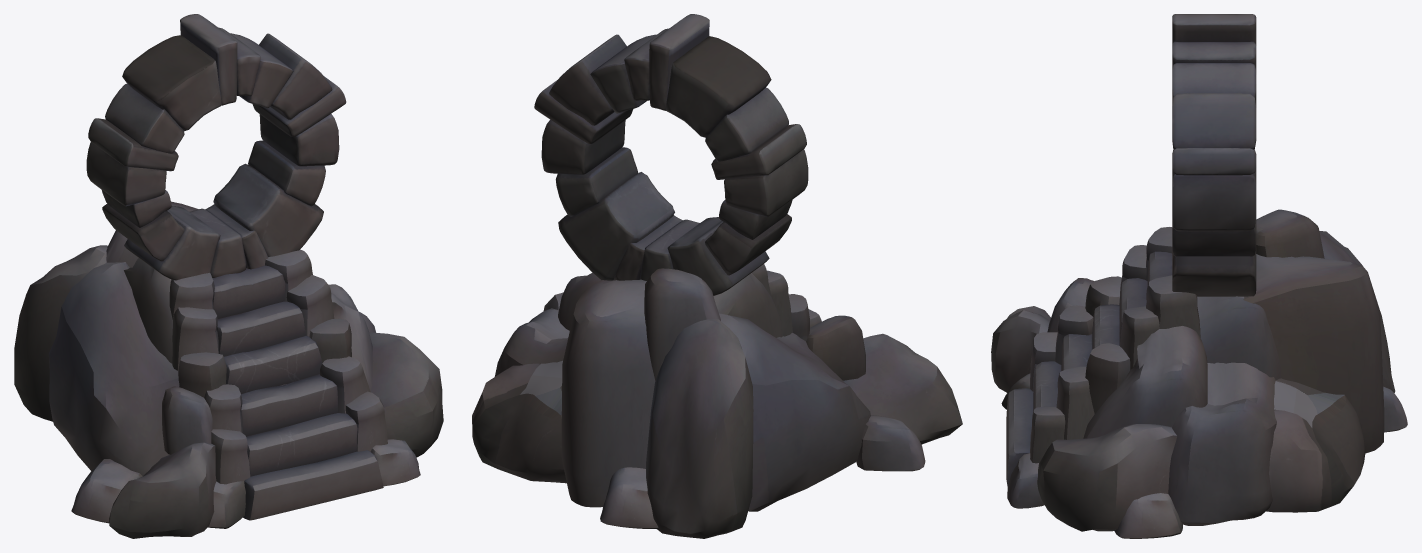
Rendered from Portal.glb.
3 renders of one model, left to right at view 1: azimuth 30°, elevation 25°; view 2: azimuth 150°, elevation 25°; view 3: azimuth 270°, elevation 25°, orthographic. The views are drawn at different scales.
Parts seen in each view (by area): view 1: Portal.001, Rocks2, Stairs.001, BorderRocks, Rocks1.001, Cube.005, Cube.013; view 2: Portal.001, Rocks2, Cube.005, Cube.012, Rocks1.001, Cube.011, Cube.013, Cube.014, BorderRocks; view 3: Rocks1.001, Portal.001, Cube.012, Rocks2, BorderRocks, Cube.011, Stairs.001, Cube.013, Cube.005, Cube.014.
Boxes of the visible parts, x1,y1,x2,y2 form: Portal.001: [86, 14, 346, 280]; Rocks2: [48, 262, 443, 538]; Stairs.001: [212, 265, 383, 520]; BorderRocks: [169, 249, 387, 484]; Rocks1.001: [71, 258, 420, 528]; Cube.005: [14, 245, 107, 421]; Cube.013: [106, 230, 138, 267]; Portal.001: [534, 14, 808, 295]; Rocks2: [543, 292, 962, 511]; Cube.005: [646, 319, 753, 538]; Cube.012: [561, 279, 655, 507]; Rocks1.001: [494, 273, 925, 471]; Cube.011: [472, 360, 566, 483]; Cube.013: [644, 268, 720, 380]; Cube.014: [600, 467, 658, 528]; BorderRocks: [752, 264, 821, 341]; Rocks1.001: [1001, 278, 1281, 538]; Portal.001: [1172, 14, 1256, 296]; Cube.012: [1243, 254, 1384, 453]; Rocks2: [991, 306, 1176, 531]; BorderRocks: [1030, 227, 1200, 463]; Cube.011: [1266, 378, 1365, 512]; Stairs.001: [1006, 251, 1172, 487]; Cube.013: [1256, 209, 1324, 258]; Cube.005: [1319, 231, 1395, 393]; Cube.014: [1383, 386, 1407, 432].
Size of the model in its own units: 19.17 by 20.84 by 17.96.
10 materials, 10 textured.
